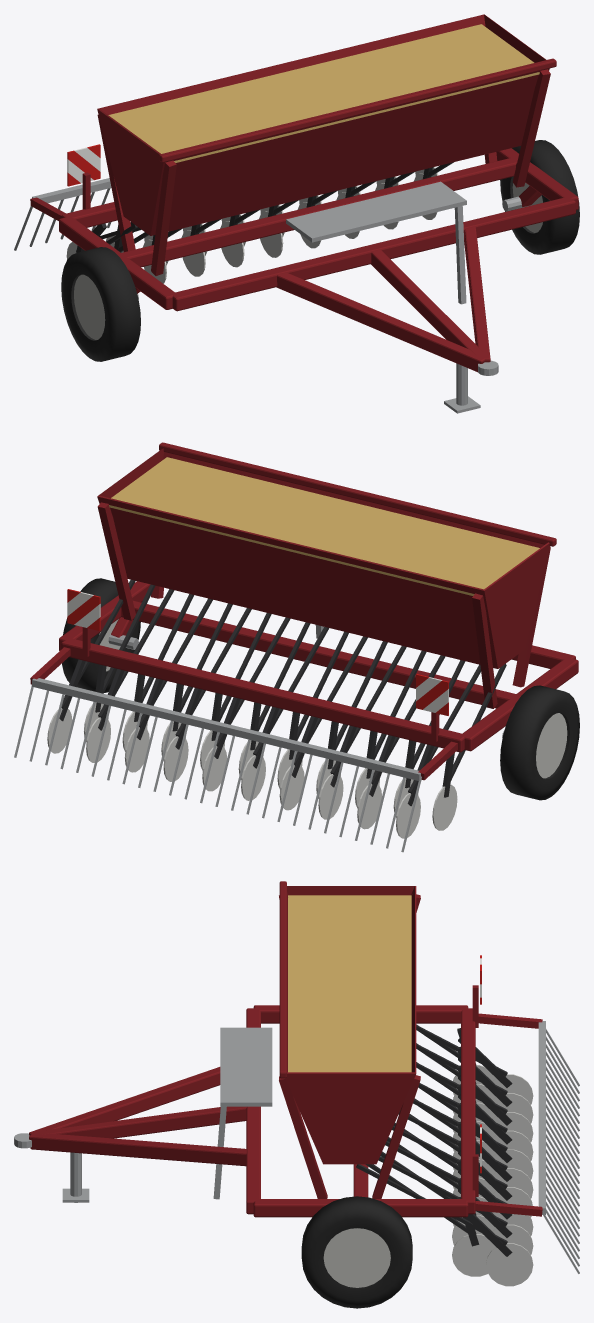
Rendered from sembradora.glb.
3 renders of one model, top to bottom at view 1: azimuth 30°, elevation 25°; view 2: azimuth 150°, elevation 25°; view 3: azimuth 270°, elevation 25°, orthographic.
Parts seen in each view (by area): view 1: bastidor, carga, rueda_d, rejas, rueda_i, tubos, senales, pata; view 2: bastidor, rejas, carga, tubos, rueda_d, senales, rueda_i; view 3: bastidor, carga, rejas, rueda_i, tubos, pata.
Part boxes in pixels (x1,y1,x2,y2): bastidor: (59, 14, 578, 375); carga: (108, 24, 539, 162); rueda_d: (61, 247, 140, 361); rejas: (14, 167, 438, 283); rueda_i: (500, 140, 579, 254); tubos: (99, 162, 453, 252); senales: (67, 144, 100, 186); pata: (444, 363, 480, 413); bastidor: (59, 442, 578, 752); rejas: (14, 647, 457, 852); carga: (109, 457, 539, 595); tubos: (61, 579, 506, 793); rueda_d: (500, 685, 579, 800); senales: (67, 589, 448, 715); rueda_i: (62, 578, 140, 692); bastidor: (14, 881, 478, 1217); carga: (288, 895, 411, 1072); rejas: (452, 1013, 579, 1286); rueda_i: (301, 1196, 412, 1308); tubos: (356, 1024, 507, 1245); pata: (62, 1152, 89, 1202).
Size of the model in its own units: 3.62 by 1.67 by 3.83.
